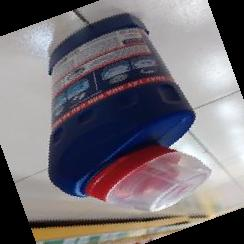vim blue: (44, 14, 214, 211)
